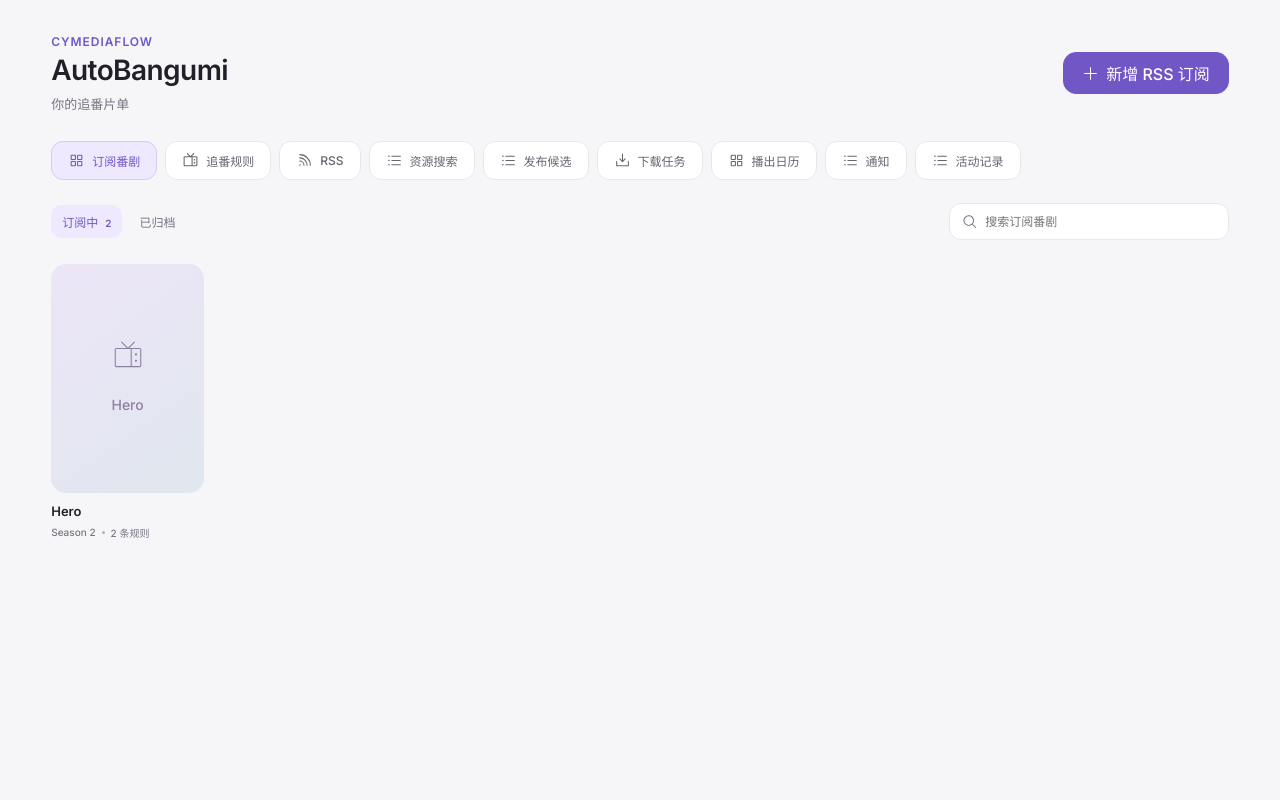
Test: AutomationPage › groups same-work rules behind one poster and shows archived rules separately
Click the button with aria-label "编辑 Hero 第 2 季" at (128, 402), box [51, 264, 204, 540]
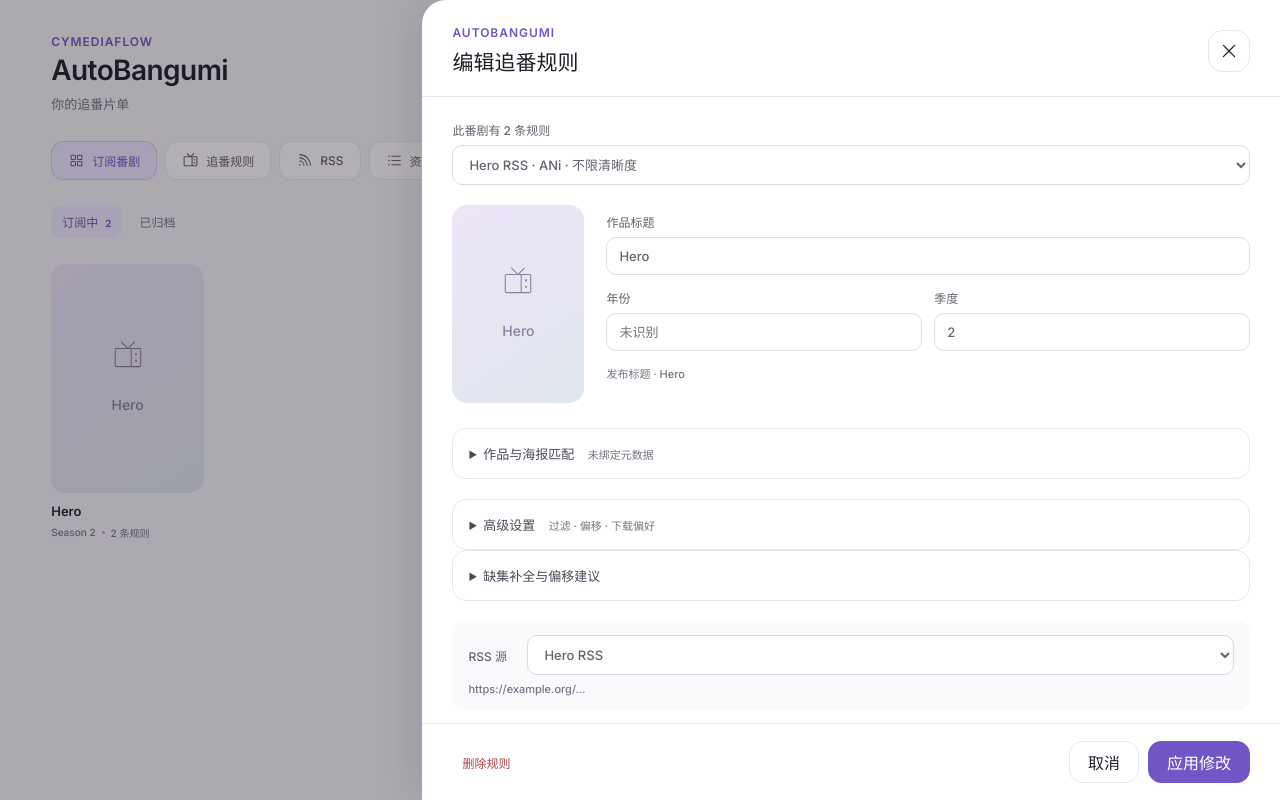
Expected: the dropdown labelled "此番剧有 2 条规则" is shown, [452, 145, 1250, 185]
Press Escape
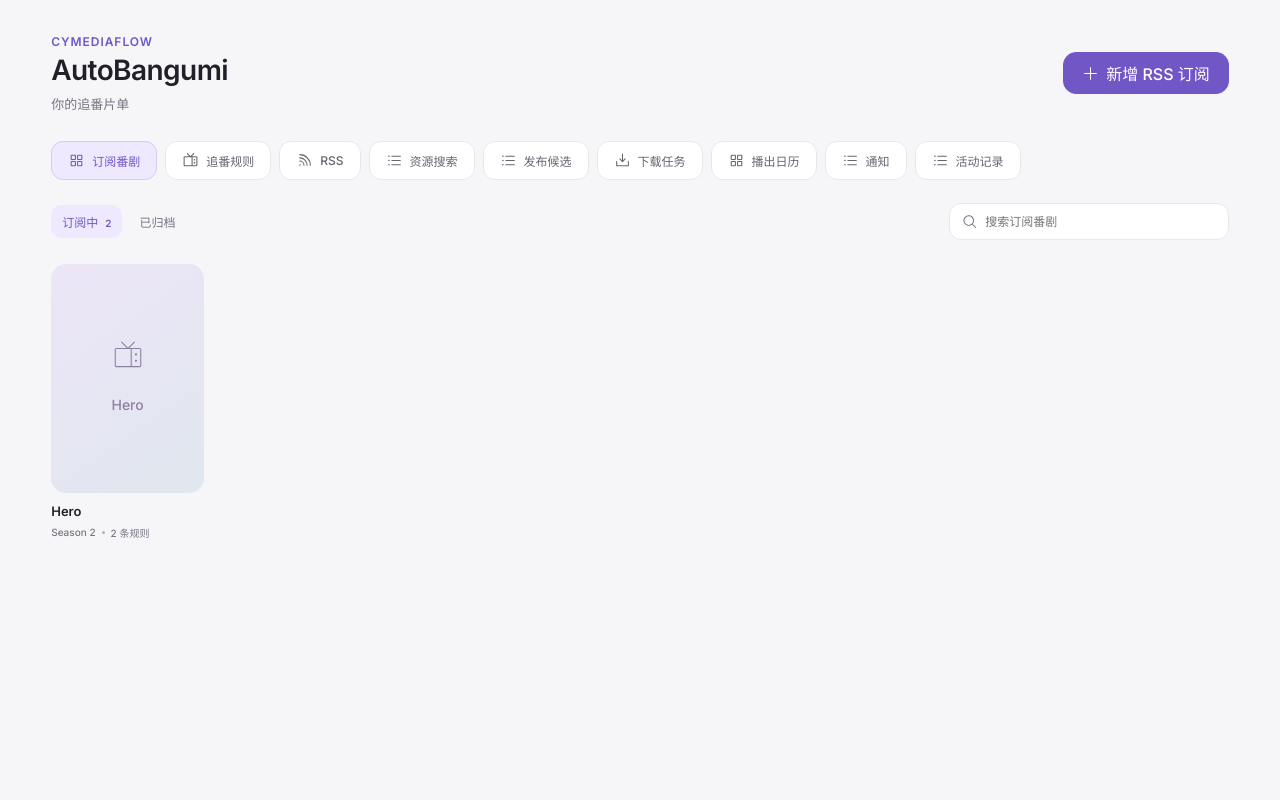
Click the button "已归档" at (158, 221), box [128, 205, 186, 238]
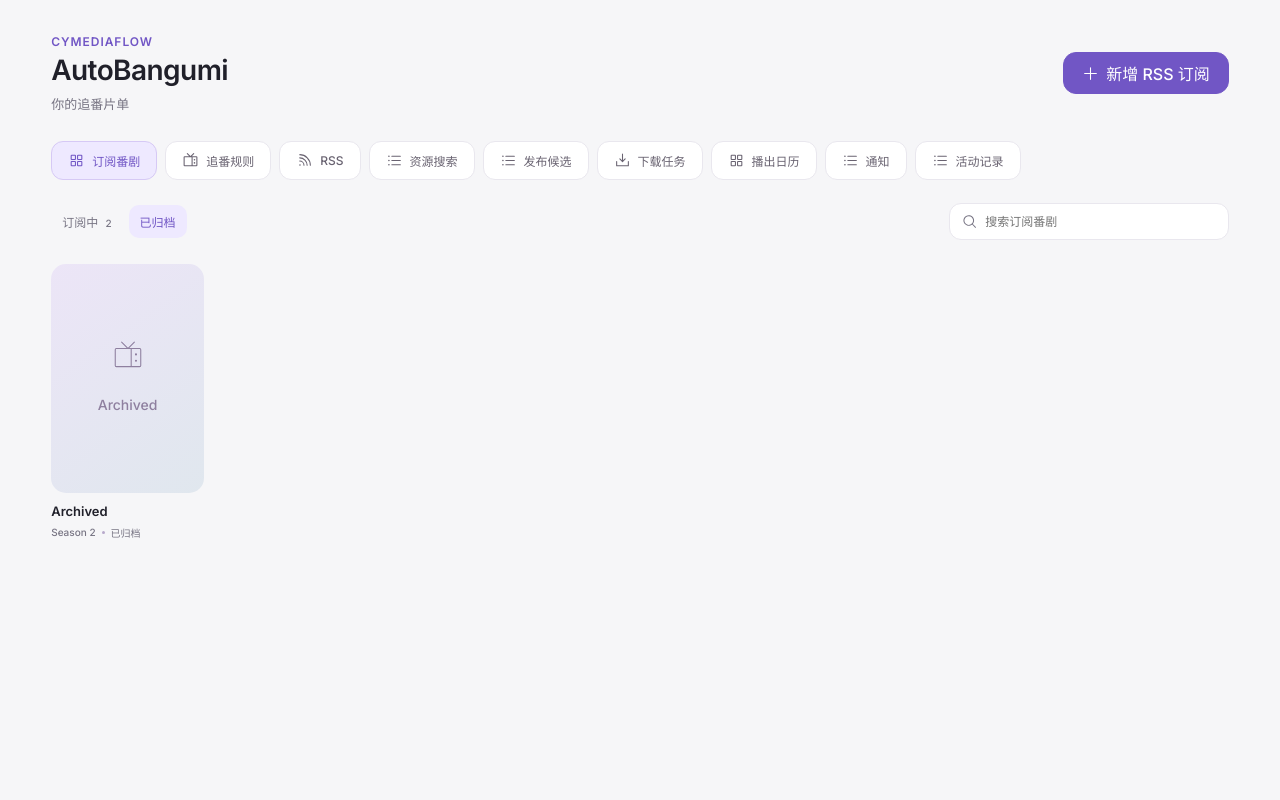
Expected: the button with aria-label "编辑 Archived 第 2 季" is shown, [51, 264, 204, 540]
